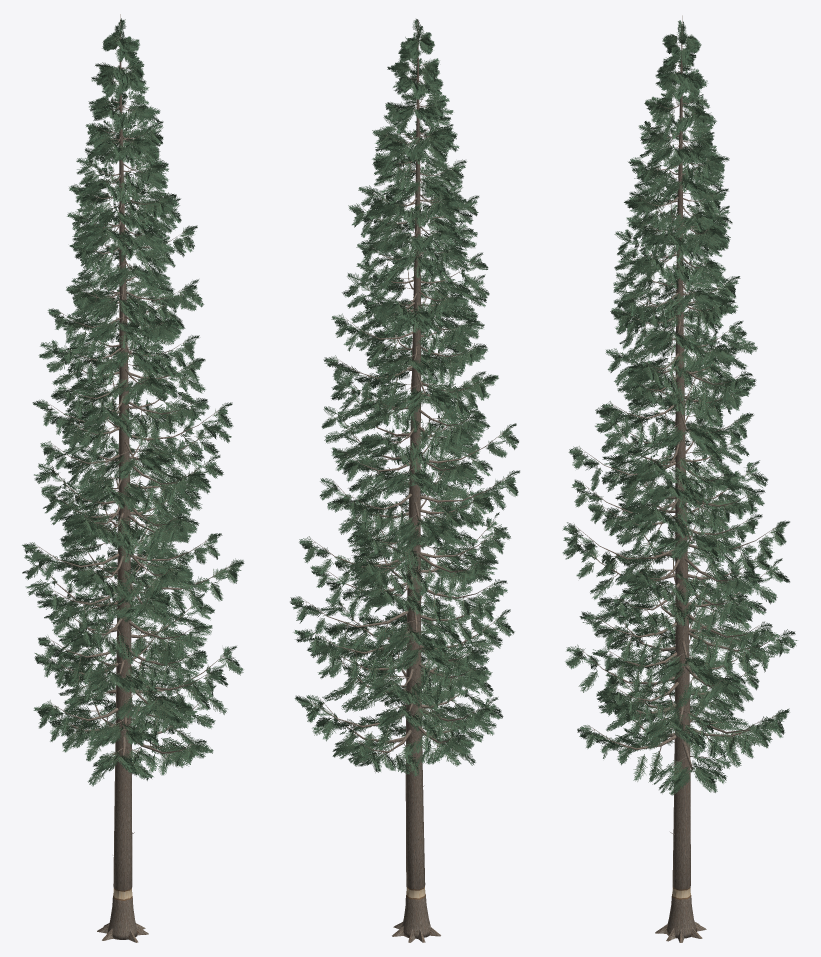
File: Sitka_RingBarked_01_Fresh_LOD0.fbx
3 renders of one model, left to right at view 1: azimuth 30°, elevation 25°; view 2: azimuth 150°, elevation 25°; view 3: azimuth 270°, elevation 25°, orthographic.
Parts seen in each view (by area): view 1: Sitka_RingBarked_01_Fresh_LOD0_Foliage, Sitka_RingBarked_01_Fresh_LOD0_Branches, Sitka_RingBarked_01_Fresh_LOD0_Trunk; view 2: Sitka_RingBarked_01_Fresh_LOD0_Foliage, Sitka_RingBarked_01_Fresh_LOD0_Branches, Sitka_RingBarked_01_Fresh_LOD0_Trunk; view 3: Sitka_RingBarked_01_Fresh_LOD0_Foliage, Sitka_RingBarked_01_Fresh_LOD0_Branches, Sitka_RingBarked_01_Fresh_LOD0_Trunk.
Part boxes in pixels (bbox=[...]): Sitka_RingBarked_01_Fresh_LOD0_Foliage: bbox=[22, 18, 244, 786]; Sitka_RingBarked_01_Fresh_LOD0_Branches: bbox=[37, 35, 233, 855]; Sitka_RingBarked_01_Fresh_LOD0_Trunk: bbox=[97, 14, 148, 942]; Sitka_RingBarked_01_Fresh_LOD0_Foliage: bbox=[290, 19, 519, 776]; Sitka_RingBarked_01_Fresh_LOD0_Branches: bbox=[300, 38, 508, 786]; Sitka_RingBarked_01_Fresh_LOD0_Trunk: bbox=[392, 19, 440, 942]; Sitka_RingBarked_01_Fresh_LOD0_Foliage: bbox=[562, 20, 797, 795]; Sitka_RingBarked_01_Fresh_LOD0_Branches: bbox=[576, 37, 784, 834]; Sitka_RingBarked_01_Fresh_LOD0_Trunk: bbox=[655, 15, 706, 942].
Size of the model in its own units: 620 by 2600 by 644.
4 materials, 3 textured.
